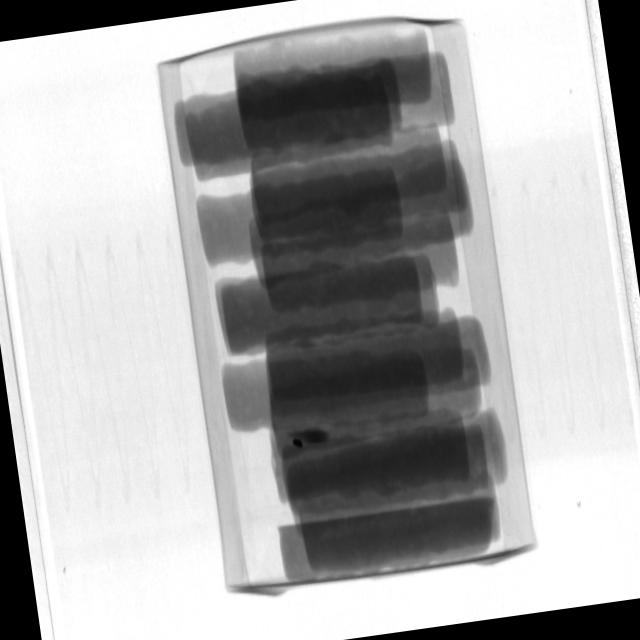ym: (302, 425, 331, 448), (292, 438, 305, 452)
